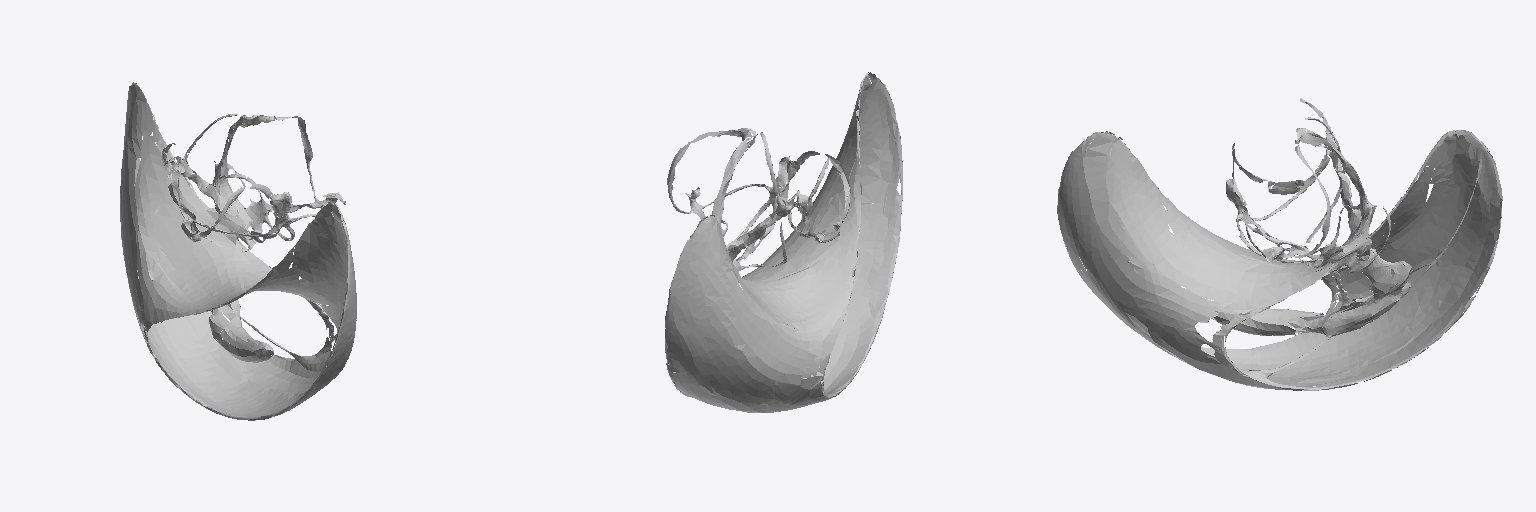
The model's file is junk2.obj.
The picture shows the model from 3 angles: view 1: azimuth 30°, elevation 25°; view 2: azimuth 150°, elevation 25°; view 3: azimuth 270°, elevation 25°; orthographic projection.
Visible parts, largest first — view 1: Retopo_mesh.001; view 2: Retopo_mesh.001; view 3: Retopo_mesh.001.
Boxes of the visible parts, box(x1,y1,x2,y2) form: Retopo_mesh.001: box(120, 82, 356, 420); Retopo_mesh.001: box(665, 72, 902, 412); Retopo_mesh.001: box(1057, 98, 1502, 390).
Bounding box in the file's own units: 0.3836 × 0.5892 × 0.8841.